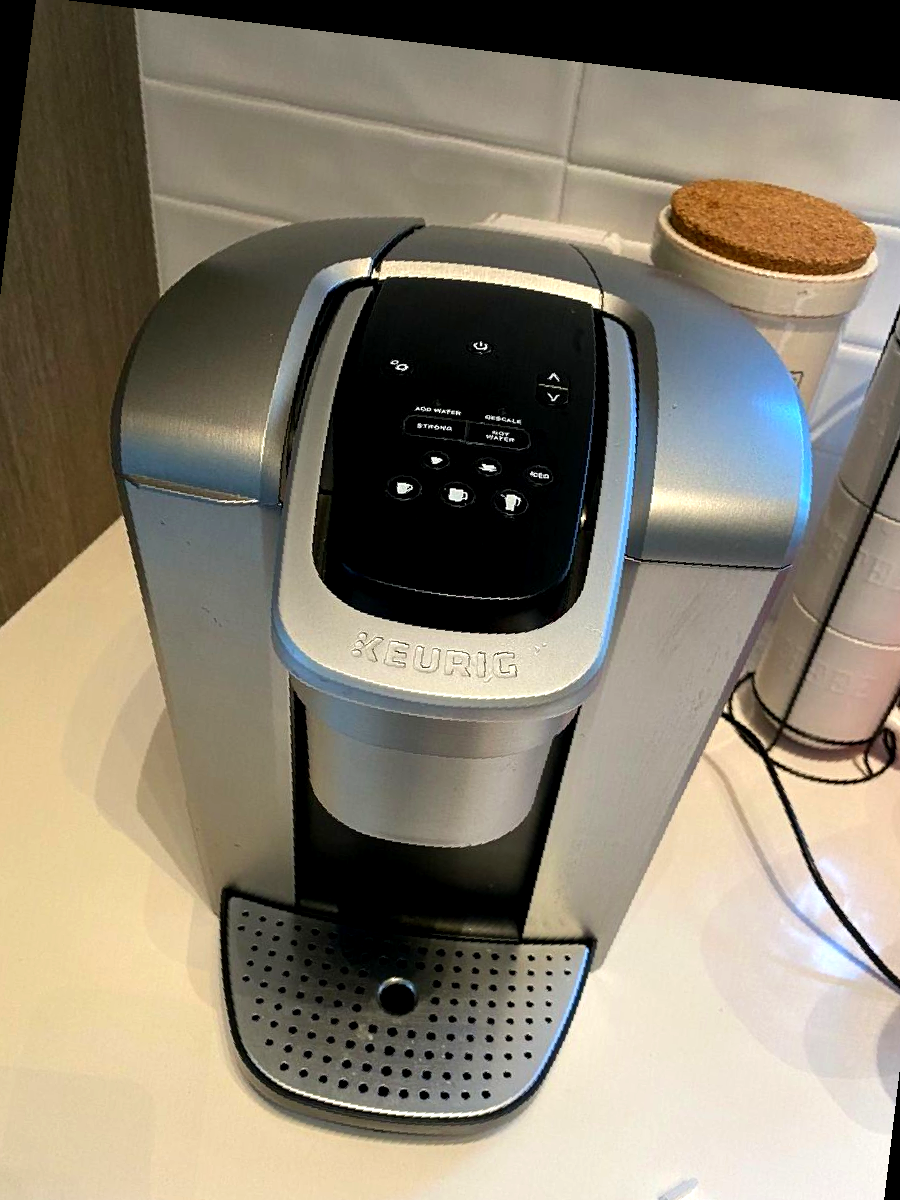10oz: (433, 480, 480, 518)
12oz: (488, 486, 534, 524)
4oz: (417, 447, 458, 474)
6oz: (469, 454, 508, 481)
8oz: (380, 470, 426, 508)
add_water: (409, 396, 469, 418)
descale: (473, 407, 533, 429)
hot: (466, 423, 525, 445)
iced: (522, 462, 557, 491)
platform: (371, 969, 424, 1024)
power: (467, 334, 495, 360)
strong: (402, 412, 461, 434)
water_handle: (339, 665, 503, 736), (120, 466, 260, 530)
